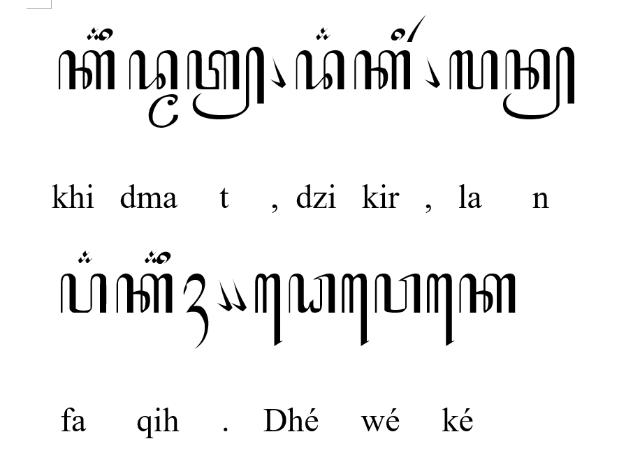-n: (502, 46, 574, 120)
-t: (186, 46, 264, 121)
_h1: (183, 272, 209, 350)
_m: (148, 94, 178, 128)
_r1: (407, 13, 427, 43)
alt: (86, 26, 102, 40), (144, 250, 160, 264), (316, 26, 330, 40), (78, 250, 92, 264)
d: (294, 49, 346, 91), (128, 50, 178, 90)
dh: (288, 273, 336, 315)
e1: (426, 273, 454, 347), (255, 272, 282, 348), (341, 274, 369, 346)
i: (156, 250, 172, 266), (99, 27, 113, 41), (390, 28, 406, 40)
k: (353, 48, 411, 92), (459, 273, 517, 315), (57, 50, 115, 90), (116, 274, 174, 314)
kom: (422, 56, 440, 88), (270, 56, 286, 88), (231, 280, 247, 312), (218, 280, 232, 312)
l: (448, 50, 498, 90)
p: (61, 273, 108, 315)
w: (375, 272, 421, 314)
